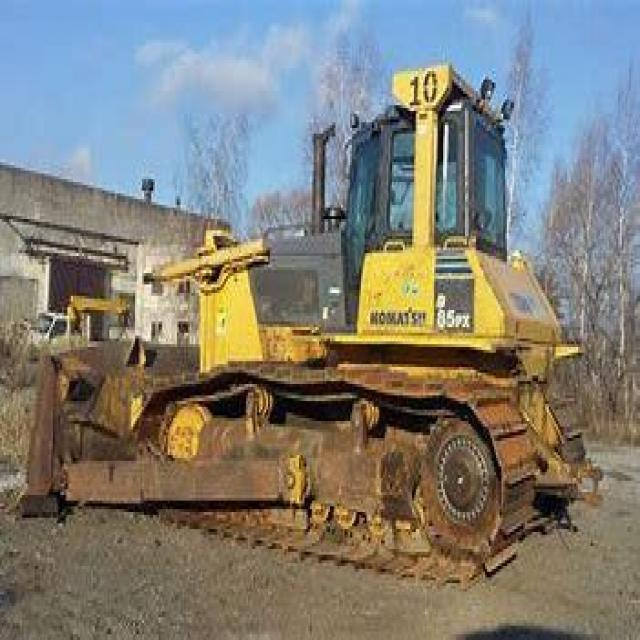Bulldozer: (20, 40, 611, 597)
